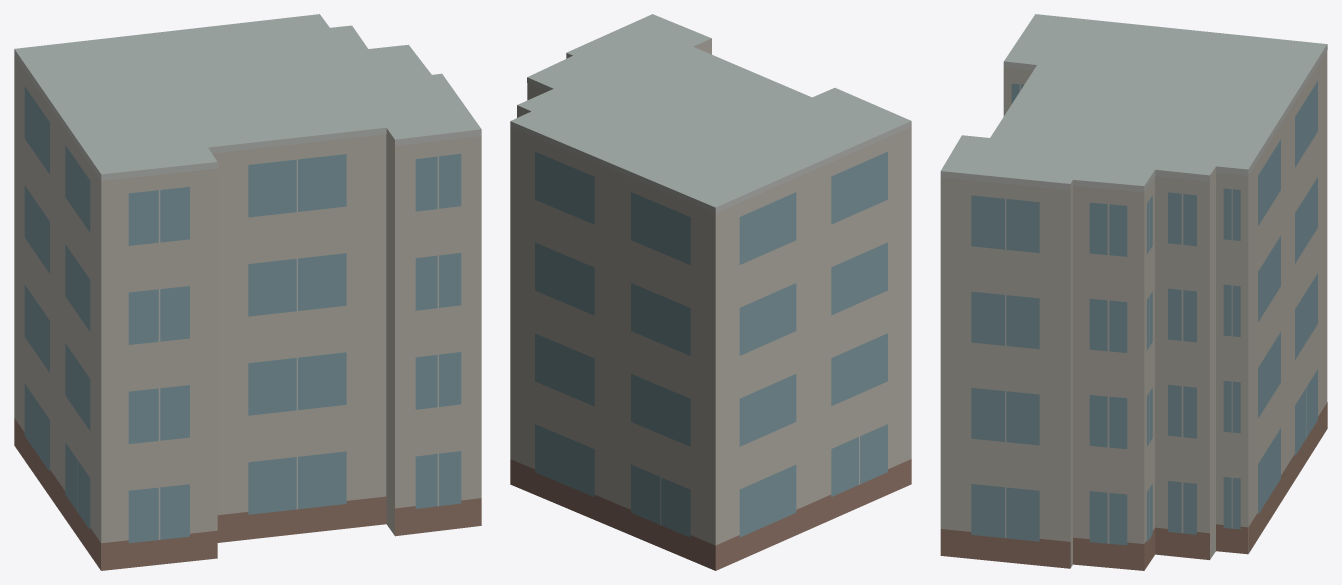
File: survey-upis-32915462.glb
3 renders of one model, left to right at view 1: azimuth 30°, elevation 25°; view 2: azimuth 150°, elevation 25°; view 3: azimuth 270°, elevation 25°, orthographic. The views are drawn at different scales.
Visible parts, largest first — view 1: survey-upis-32915462.tmp; view 2: survey-upis-32915462.tmp; view 3: survey-upis-32915462.tmp.
Part boxes in pixels (x1,y1,x2,y2): survey-upis-32915462.tmp: (14,14,481,570); survey-upis-32915462.tmp: (510,14,911,570); survey-upis-32915462.tmp: (940,14,1327,570).
Size of the model in its own units: 14.4 by 15 by 13.68.
